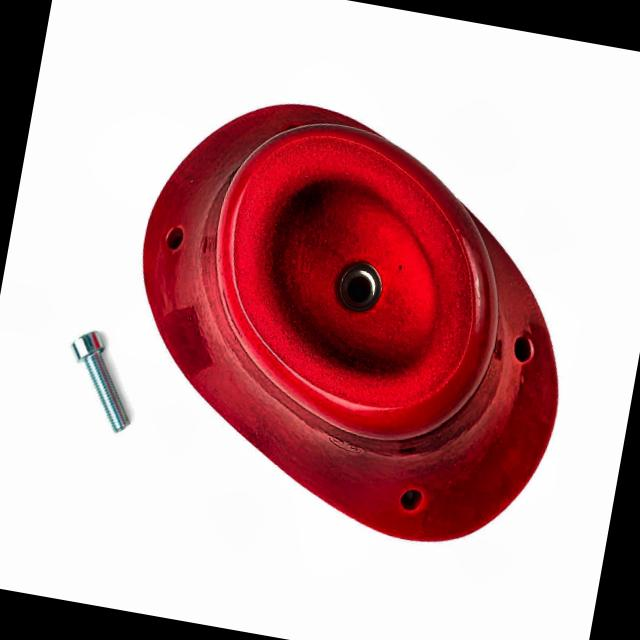Hold: (100, 78, 596, 562)
